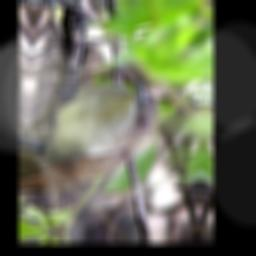Cuckoo: (21, 71, 161, 203)
